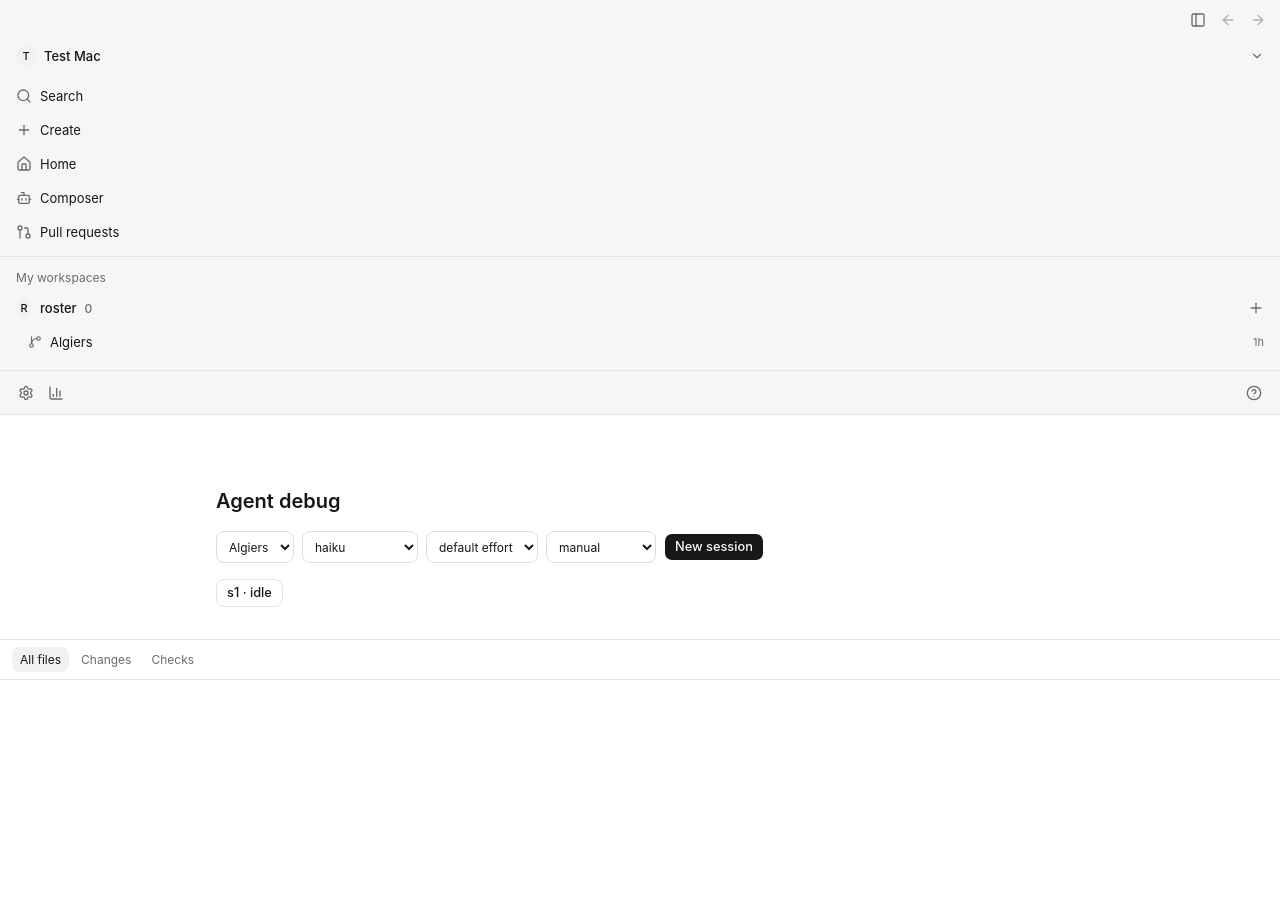
agent debug panel › lists a workspace's sessions and shows its status
Click the button "s1 · idle": (249, 593) [216, 579, 283, 607]
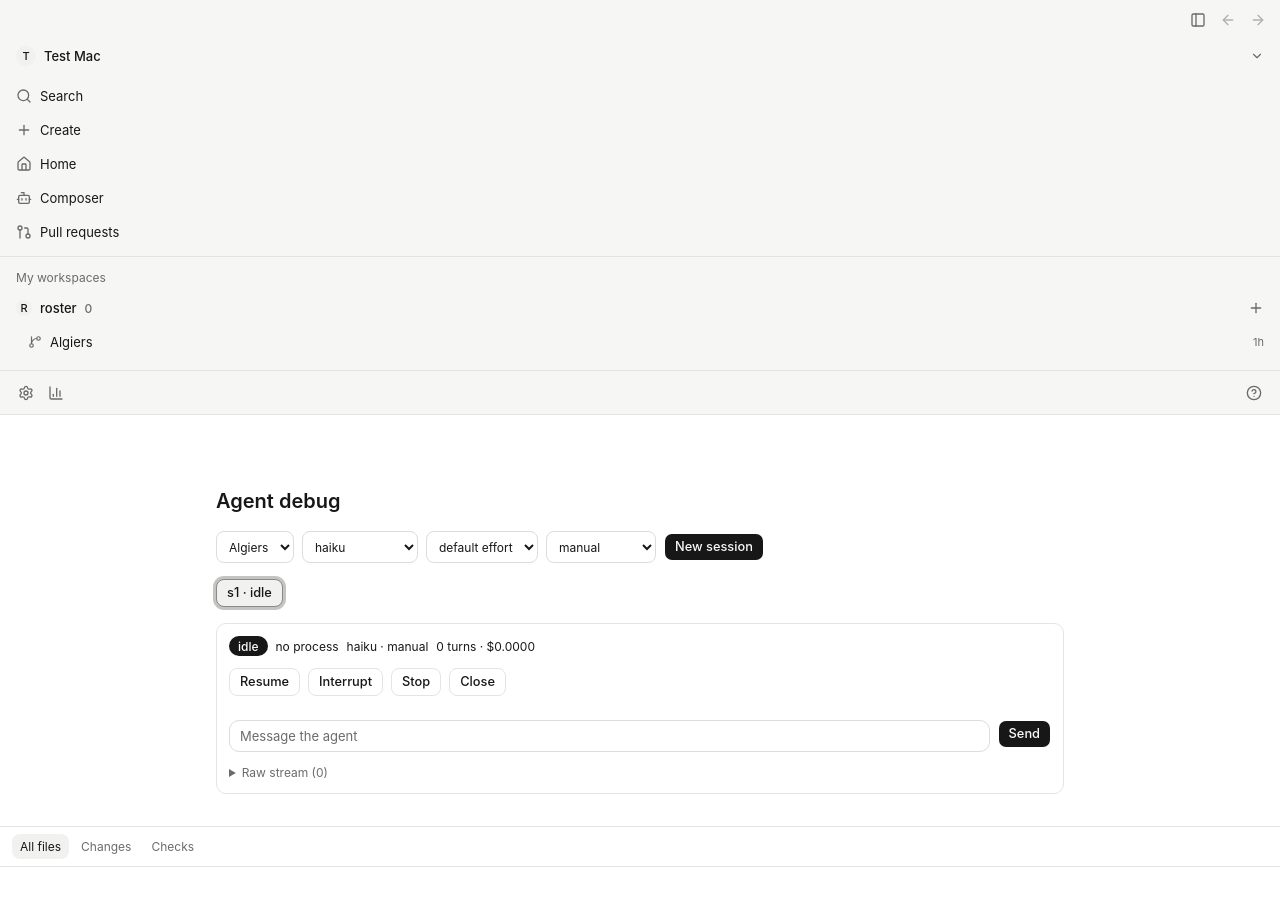
Result: the element named "Session" is shown at [216, 623, 1064, 794]
Result: the icon with test id "status" reads "idle" at [238, 638, 258, 654]
